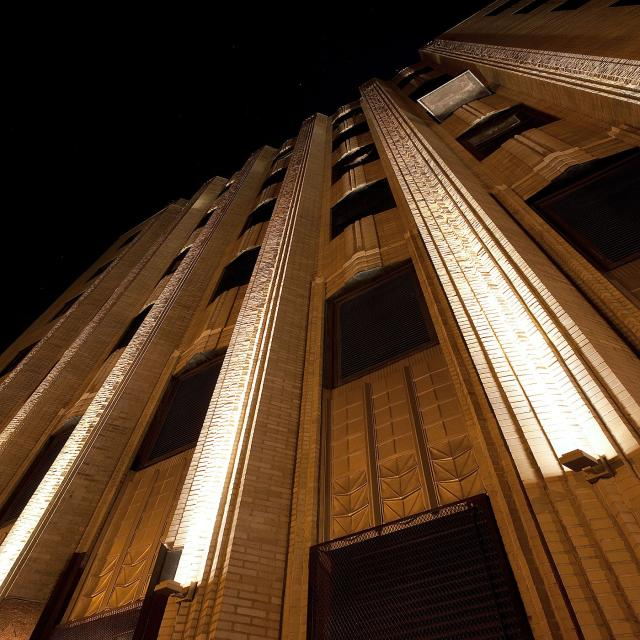lighting: (545, 433, 610, 477), (154, 547, 203, 597)
